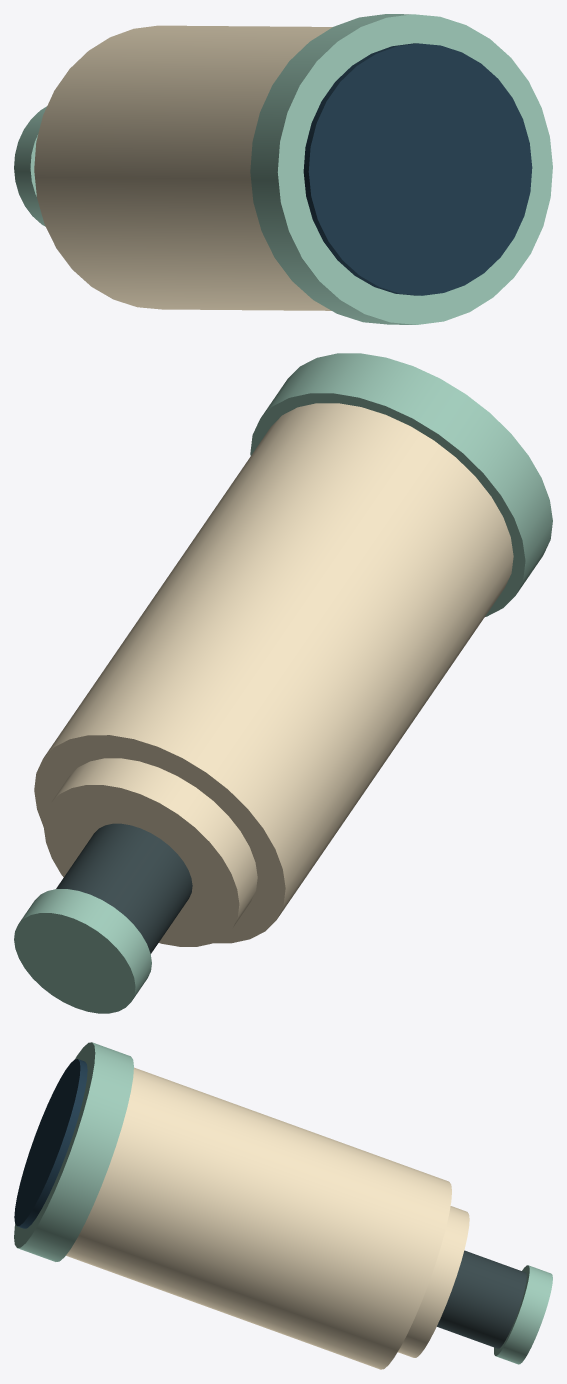
The model's file is telescope-handheld.glb.
The picture shows the model from 3 angles, top to bottom: view 1: azimuth 30°, elevation 25°; view 2: azimuth 150°, elevation 25°; view 3: azimuth 270°, elevation 25°; orthographic projection. The views are drawn at different scales.
Visible parts, largest first — view 1: Telescope_tube, Telescope_objective, Telescope_front_rim, Telescope_eyecup; view 2: Telescope_tube, Telescope_front_rim, Telescope_rear_cap, Telescope_eyecup, Telescope_eyepiece; view 3: Telescope_tube, Telescope_front_rim, Telescope_eyepiece, Telescope_objective, Telescope_rear_cap, Telescope_eyecup.
Boxes of the visible parts, x1,y1,x2,y2 form: Telescope_tube: (34, 25, 332, 310); Telescope_objective: (303, 43, 532, 295); Telescope_front_rim: (250, 14, 552, 324); Telescope_eyecup: (14, 106, 46, 226); Telescope_tube: (34, 403, 513, 943); Telescope_front_rim: (250, 353, 552, 616); Telescope_rear_cap: (44, 758, 257, 946); Telescope_eyecup: (14, 889, 151, 1013); Telescope_eyepiece: (56, 823, 192, 953); Telescope_tube: (66, 1067, 451, 1369); Telescope_front_rim: (14, 1042, 133, 1261); Telescope_eyepiece: (437, 1250, 526, 1348); Telescope_objective: (14, 1059, 87, 1228); Telescope_rear_cap: (398, 1206, 469, 1357); Telescope_eyecup: (494, 1265, 552, 1364).
Size of the model in its own units: 0.394 by 0.6088 by 0.969.
